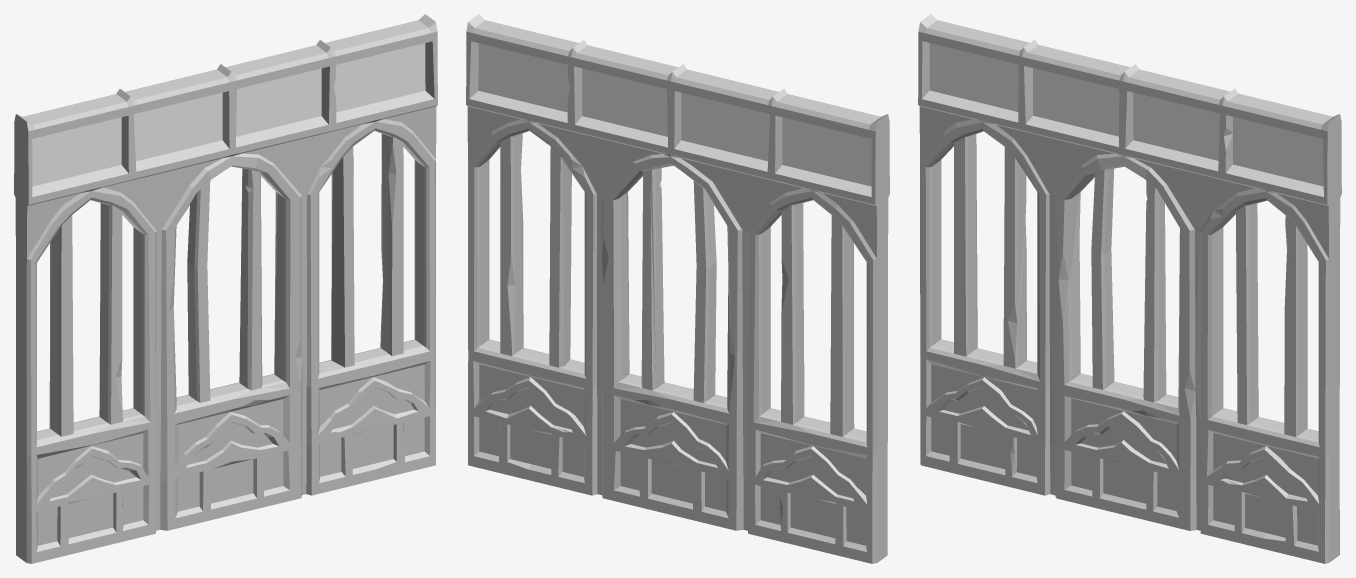
Rendered from SM_Bld_Partition_01.glb.
3 views of the same model, side by side, from view 1: azimuth 30°, elevation 25°; view 2: azimuth 150°, elevation 25°; view 3: azimuth 330°, elevation 25° (orthographic).
Parts seen in each view (by area): view 1: SM_Bld_Partition_01; view 2: SM_Bld_Partition_01; view 3: SM_Bld_Partition_01.
Part boxes in pixels (left/top/right/bottom): SM_Bld_Partition_01: left=14, top=14, right=437, bottom=563; SM_Bld_Partition_01: left=466, top=14, right=889, bottom=563; SM_Bld_Partition_01: left=918, top=14, right=1341, bottom=563.
Bounding box in the file's own units: 2.5 × 2.58 × 0.1592.
Materials: 2 (1 with a texture image).
